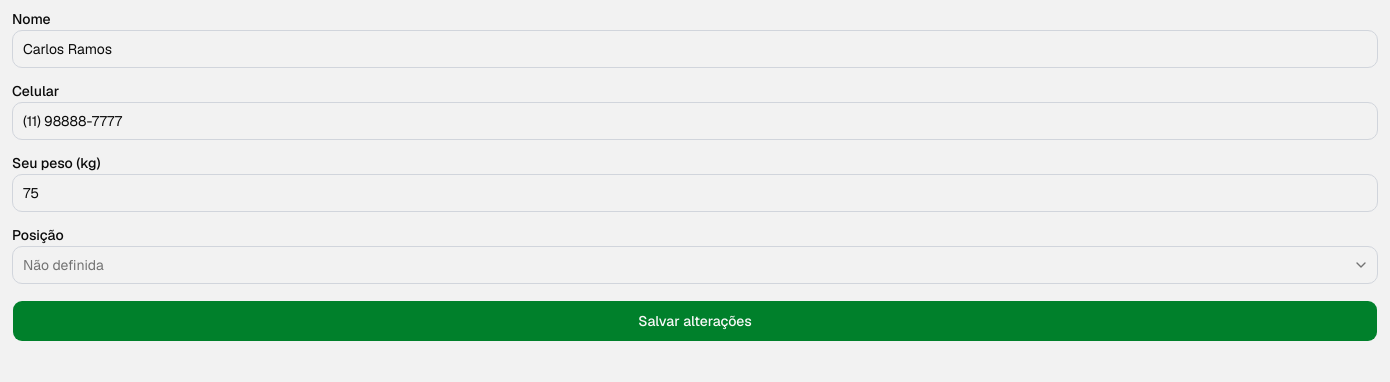
Test case: PlayerSelfEditForm › validation › shows error when name is too short
This screenshot has width=1390, height=382.
Replace the text in the field labelled "Nome" with "A" at (695, 49), box [12,30,1378,68]
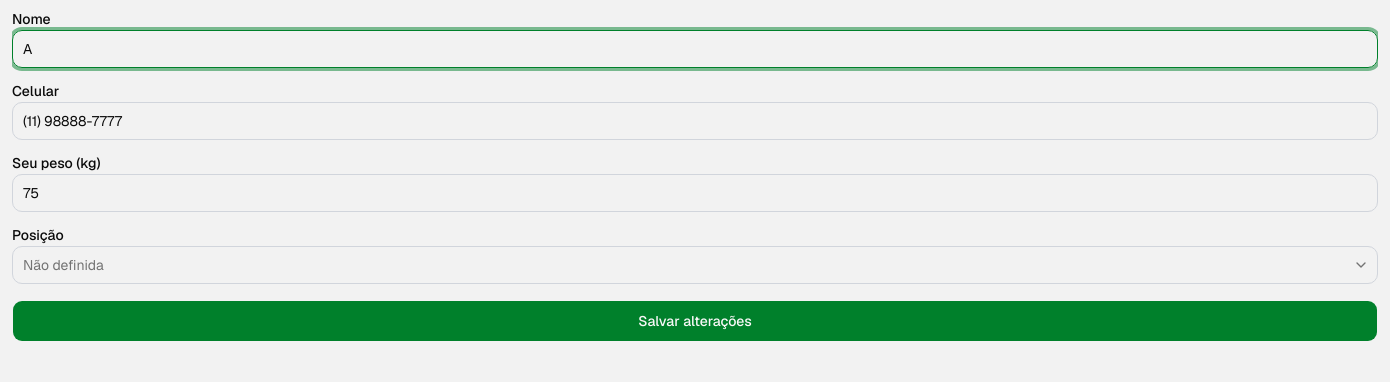
Click the button "Salvar alterações".
click(695, 321)  # box [12,300,1378,342]
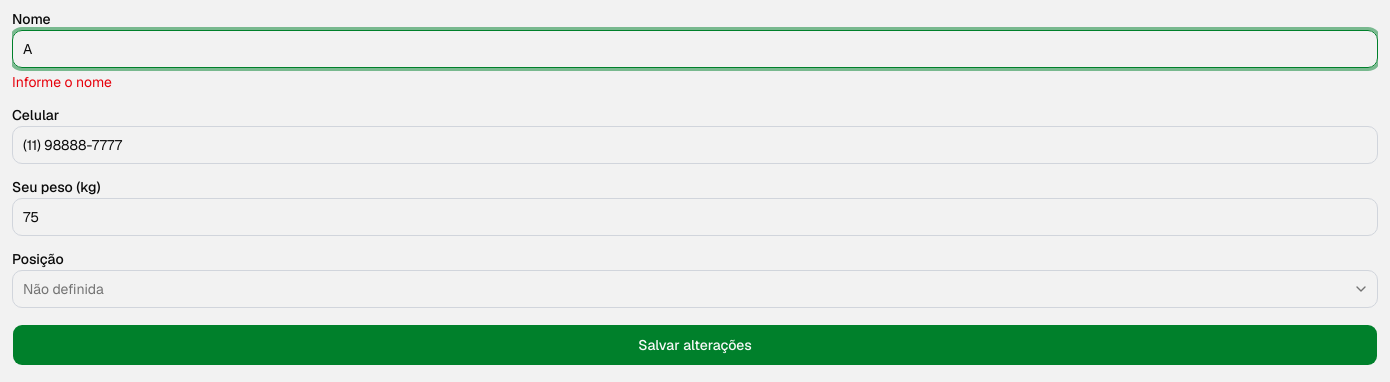
Result: the text "Informe o nome" is shown at [12,73,112,91]
